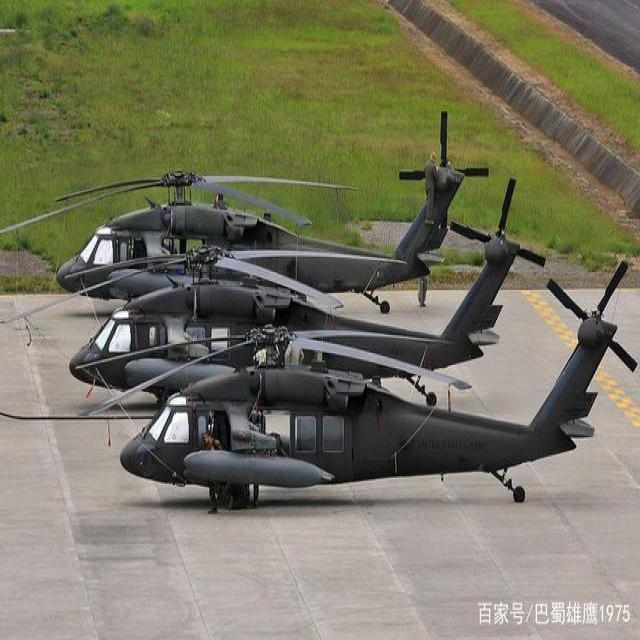MIL_HELO: (43, 283, 640, 516), (34, 172, 541, 406), (45, 109, 493, 318)
